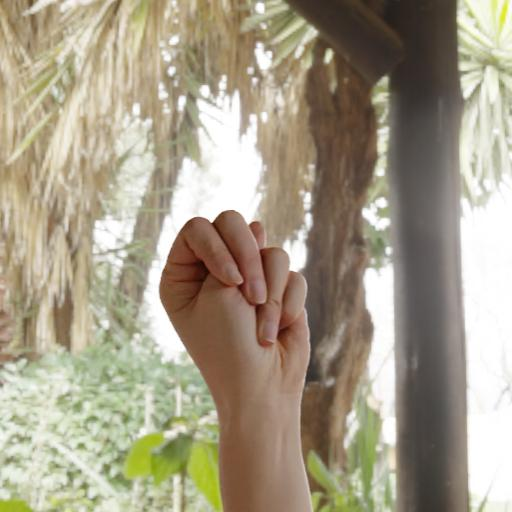N: (137, 199, 329, 502)
